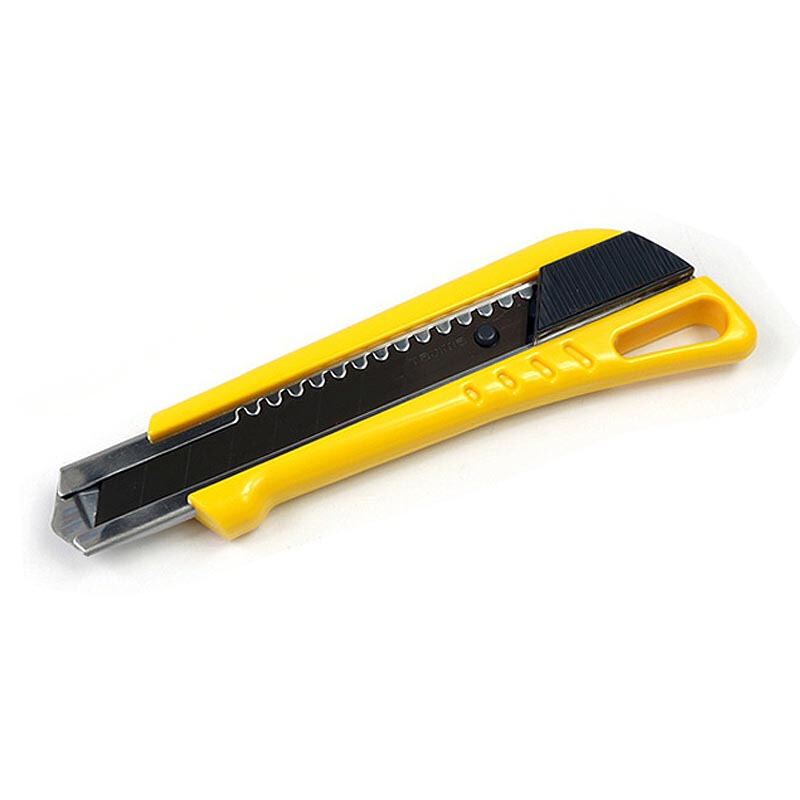cutter: (45, 227, 760, 556)
